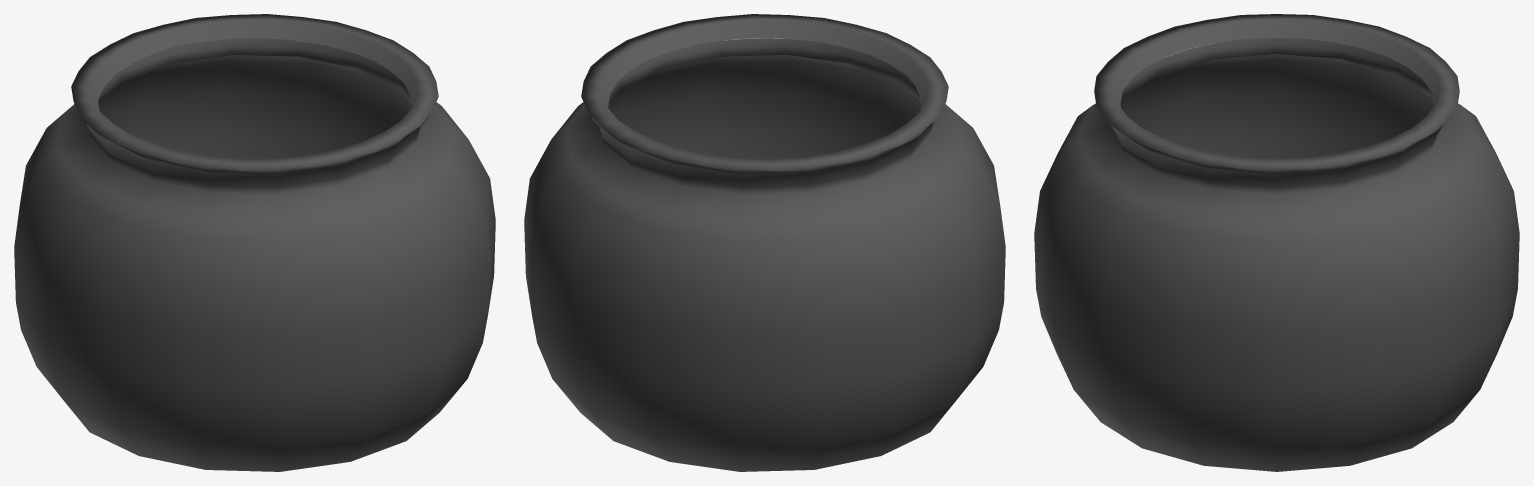
The model's file is cauldron_empty.gltf.
3 views of the same model, side by side, from view 1: azimuth 30°, elevation 25°; view 2: azimuth 150°, elevation 25°; view 3: azimuth 270°, elevation 25° (orthographic).
Visible parts, largest first — view 1: Sphere; view 2: Sphere; view 3: Sphere.
Boxes of the visible parts, x1,y1,x2,y2 form: Sphere: (14, 14, 495, 471); Sphere: (524, 14, 1005, 471); Sphere: (1034, 14, 1519, 471).
Size of the model in its own units: 2 by 1.47 by 2.
Materials: 1 (1 with a texture image).
